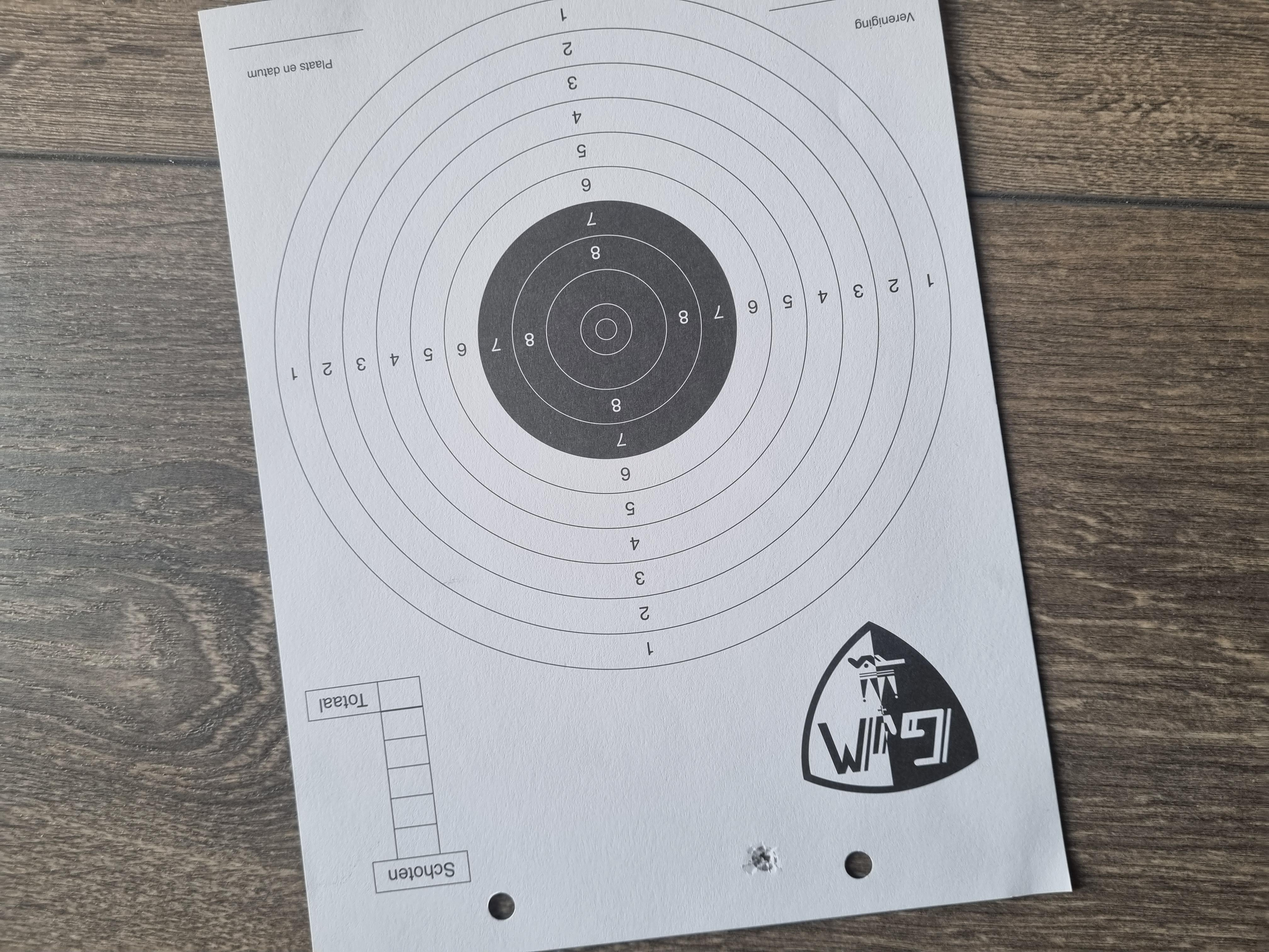hole: (103, 556, 144, 587)
